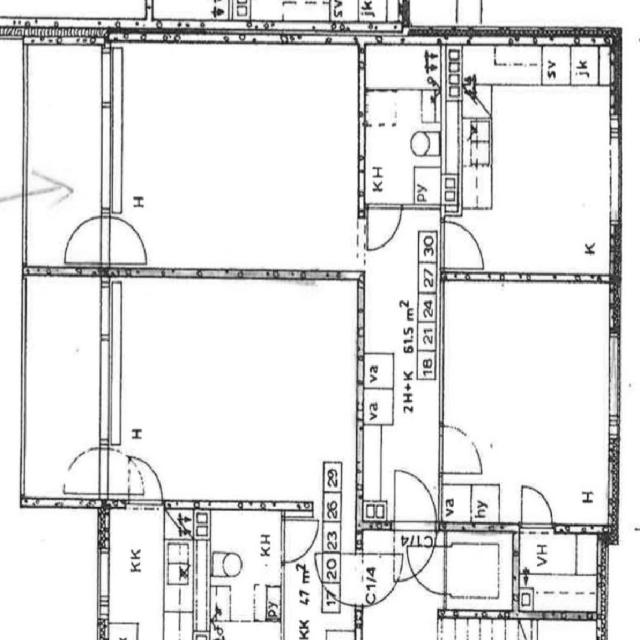door: (389, 467, 436, 538), (437, 422, 486, 478), (441, 217, 488, 273), (400, 531, 442, 592), (514, 481, 560, 535), (123, 453, 168, 508), (106, 213, 150, 269), (354, 552, 397, 608), (62, 213, 105, 268), (278, 512, 320, 567), (61, 443, 103, 498), (364, 202, 404, 252)
window: (95, 52, 127, 218), (95, 286, 126, 450), (602, 330, 627, 430), (352, 273, 372, 342), (94, 546, 113, 604)
zone: (119, 43, 356, 289), (113, 279, 355, 506), (438, 278, 622, 523), (463, 50, 621, 282), (22, 42, 106, 274), (23, 277, 106, 500), (360, 41, 443, 207), (207, 508, 284, 630), (100, 507, 169, 640), (516, 530, 602, 618), (442, 528, 520, 618), (0, 39, 27, 206), (442, 484, 506, 530), (356, 350, 396, 422), (330, 0, 408, 32)
